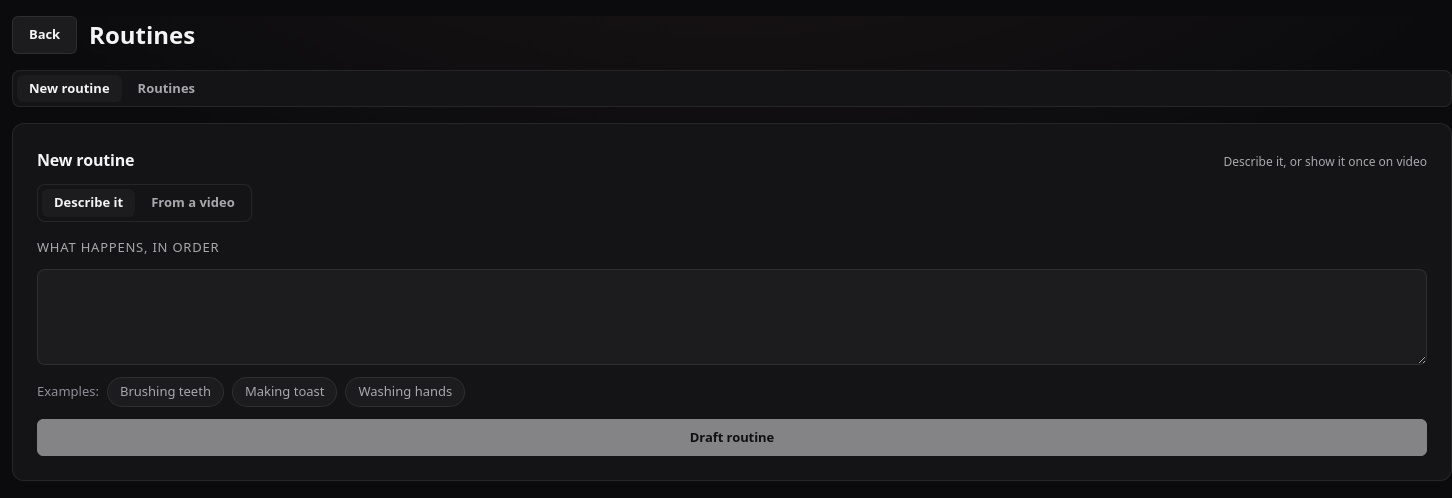
Test: RoutinesScreen › says "1 step" for a one-step routine
Click the button "Routines" at (166, 88), box [126,74,207,102]
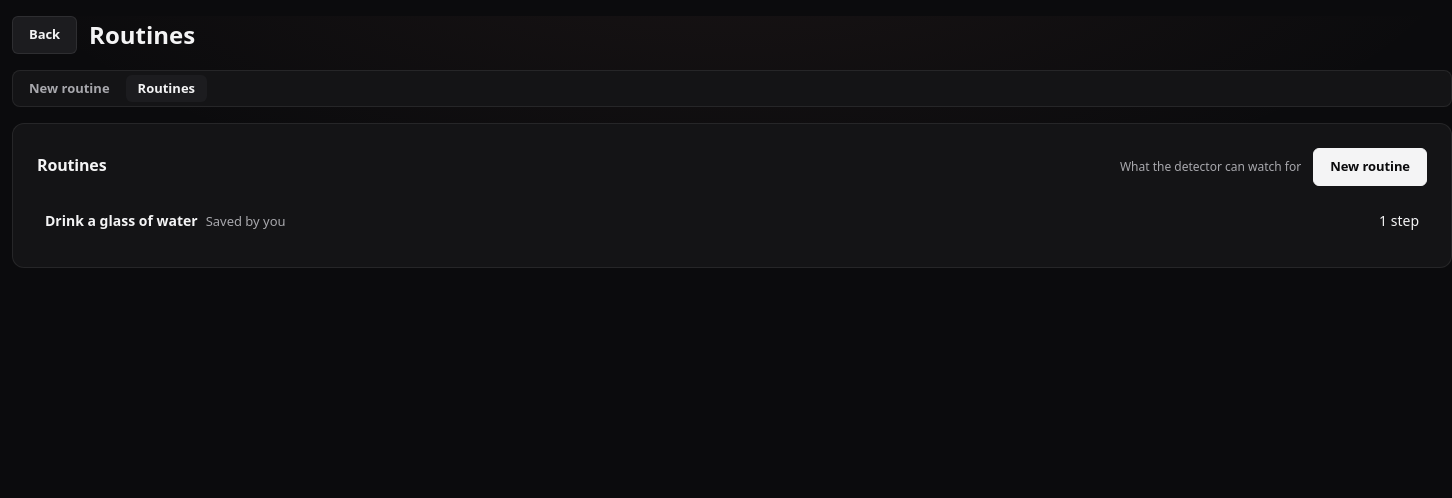
Check: the text "1 step" is shown, box [1379,210,1419,231]
